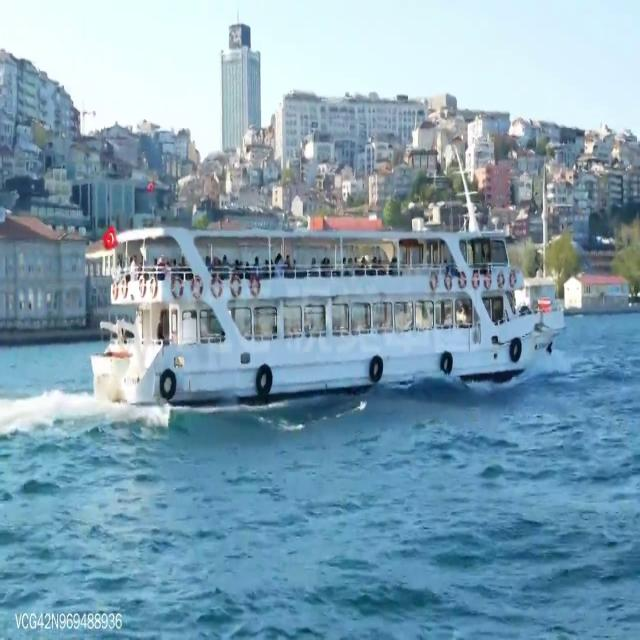passenger ship: (86, 212, 557, 398)
